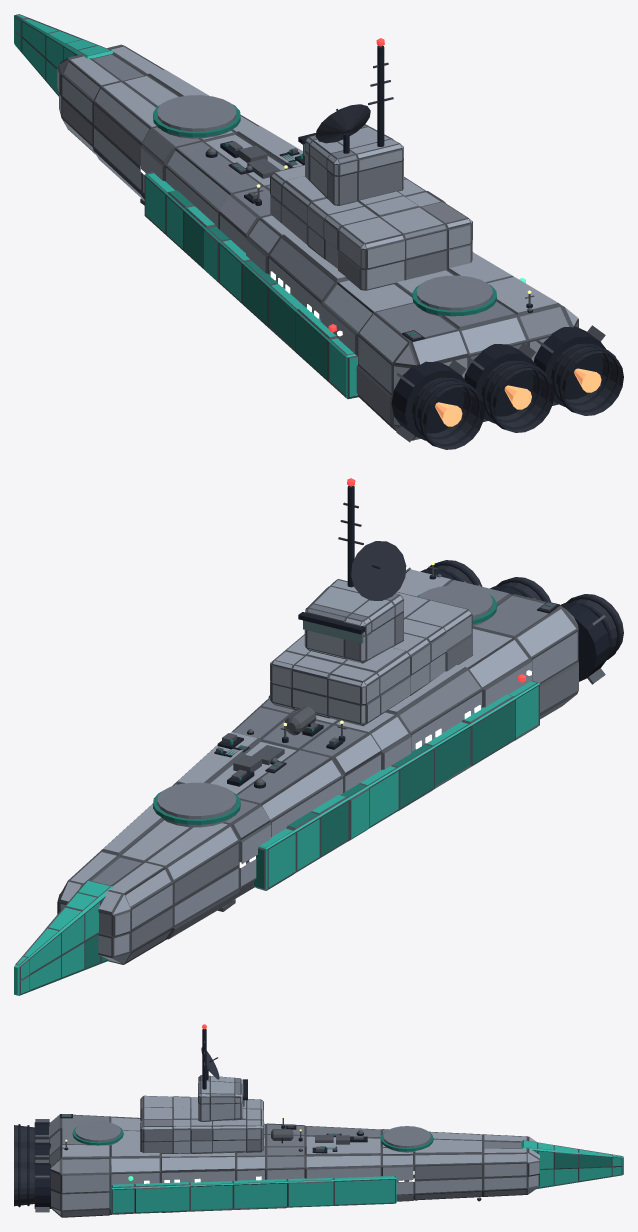
File: halberd.glb
The picture shows the model from 3 angles, top to bottom: view 1: azimuth 30°, elevation 25°; view 2: azimuth 150°, elevation 25°; view 3: azimuth 270°, elevation 25°; orthographic projection. The views are drawn at different scales.
Parts seen in each view (by area): view 1: halberd_mesh, radar_mesh; view 2: halberd_mesh, radar_mesh; view 3: halberd_mesh.
Part boxes in pixels (x1,y1,x2,y2): halberd_mesh: [14, 14, 623, 449]; radar_mesh: [315, 104, 370, 153]; halberd_mesh: [14, 485, 623, 995]; radar_mesh: [351, 541, 406, 600]; halberd_mesh: [14, 1029, 623, 1217].
Size of the model in its own units: 6.94 by 9.71 by 29.81.
